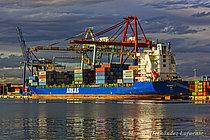Ship: (20, 41, 192, 103)
